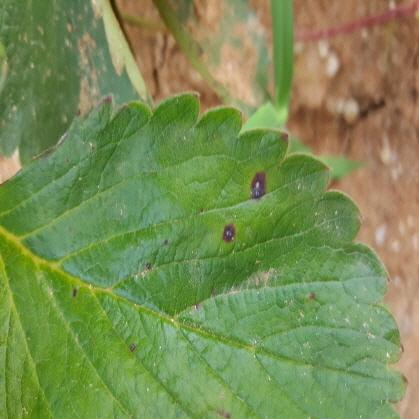Leaf Spot: (0, 90, 411, 418)
